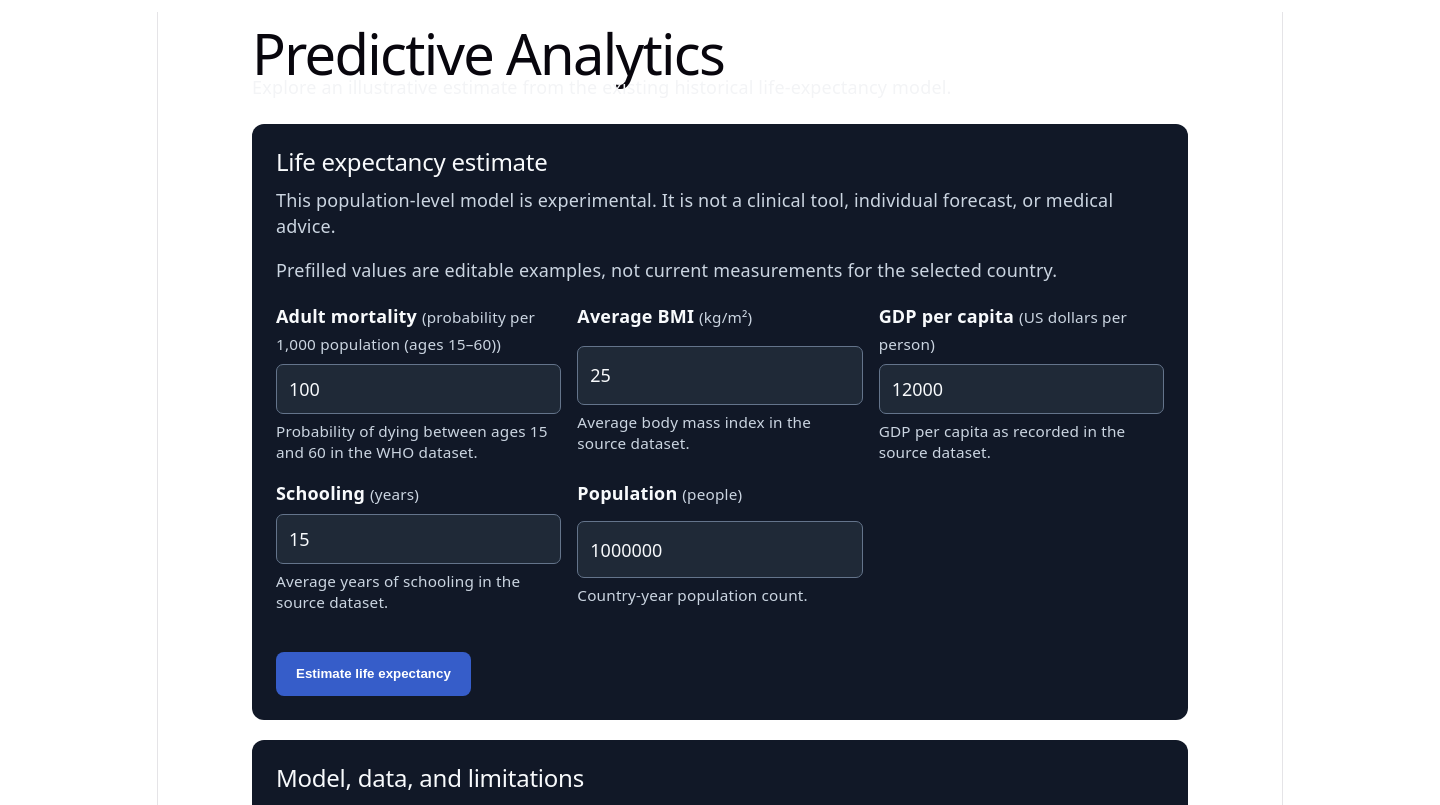
Test: PredictiveAnalytics › validates inputs before sending a prediction request
Step 1. Replace the text in the number field labelled "Adult mortality" with "-1" → (419, 389), box [276,364,561,414]
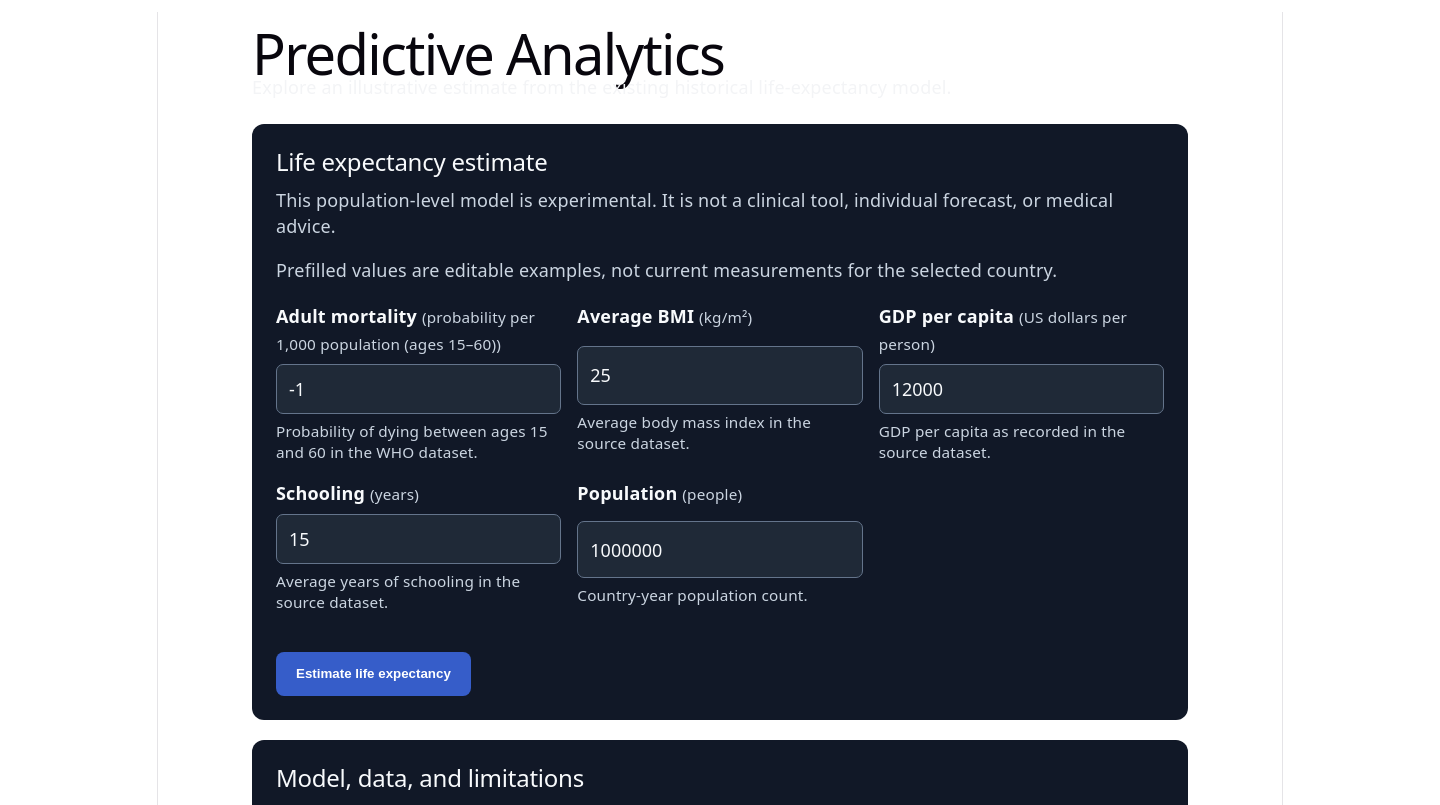
Step 2. Click the button "Estimate life expectancy" → (373, 674), box [276,652,471,696]
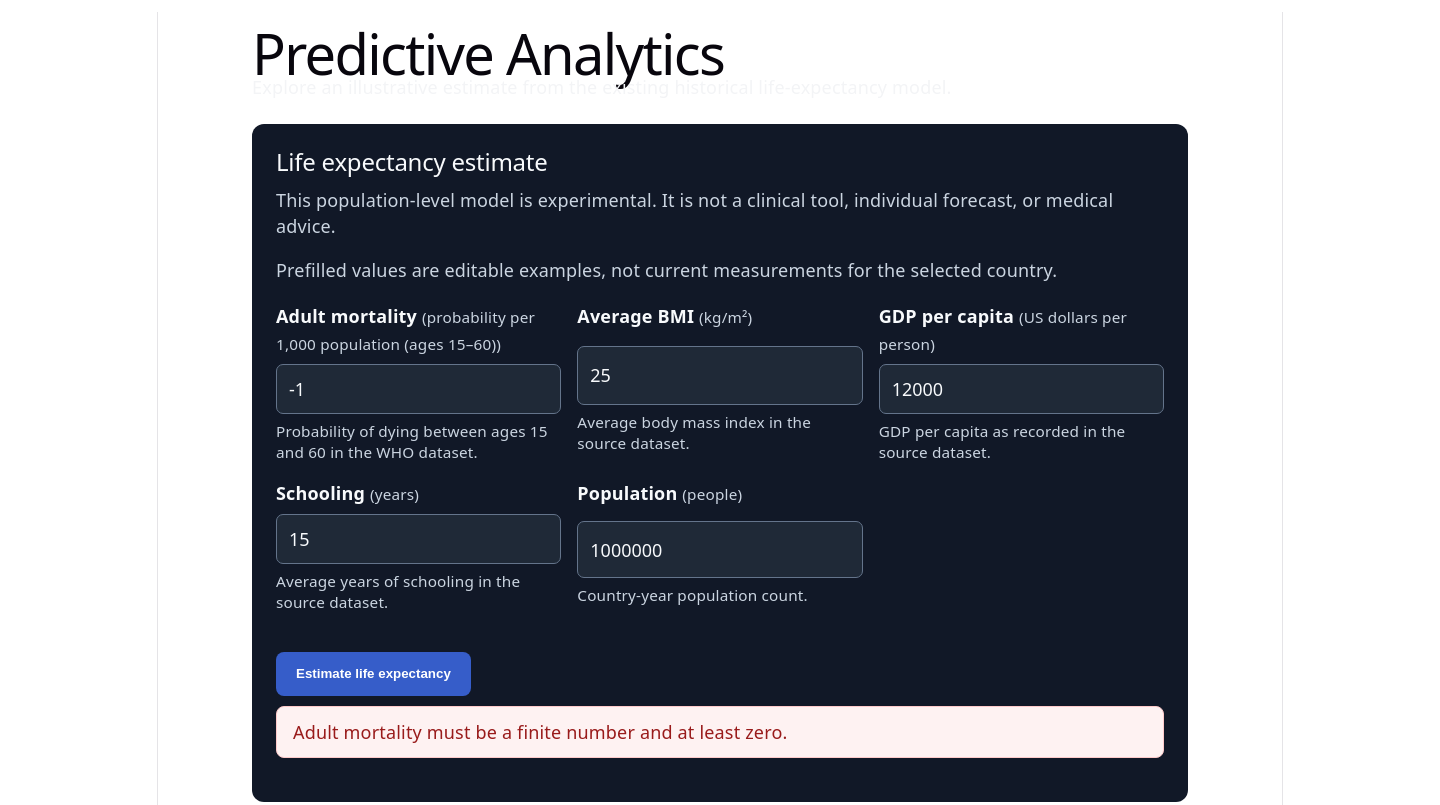
expect the message shows "Adult mortality must be a finite number": met, box [293,720,788,744]
